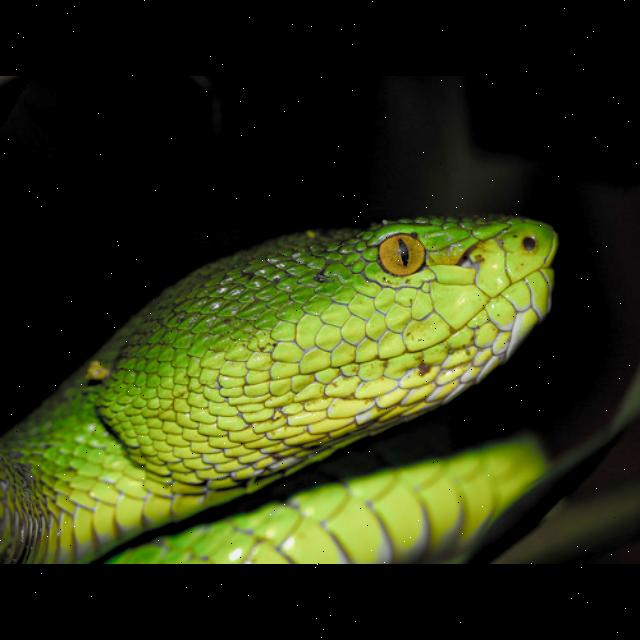snake: (0, 195, 562, 565)
